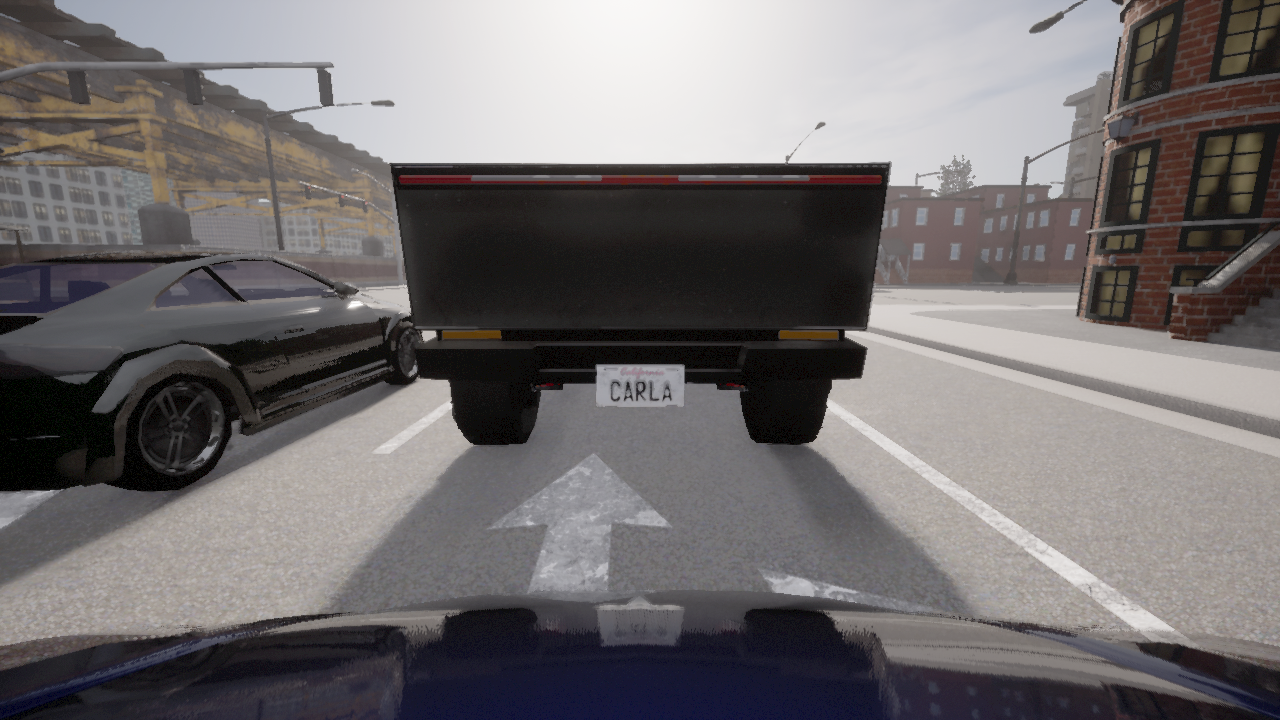cyclist: (0, 588, 1279, 719), (390, 162, 890, 444), (0, 250, 423, 491)
